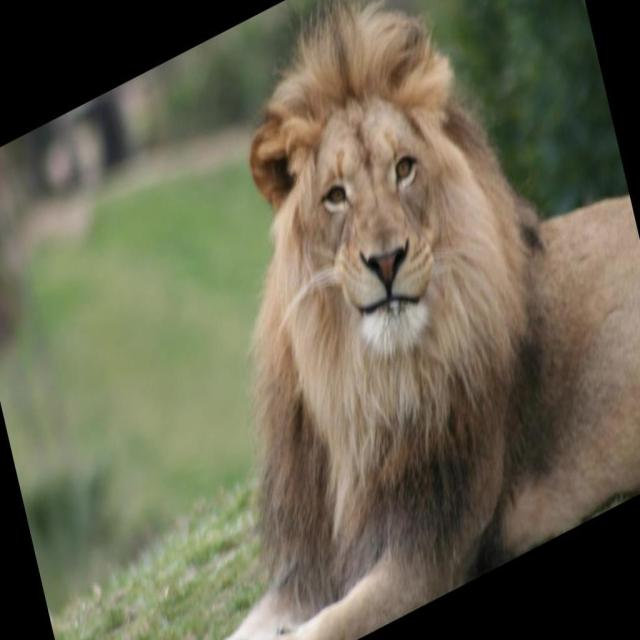Lion: (58, 0, 640, 639)
